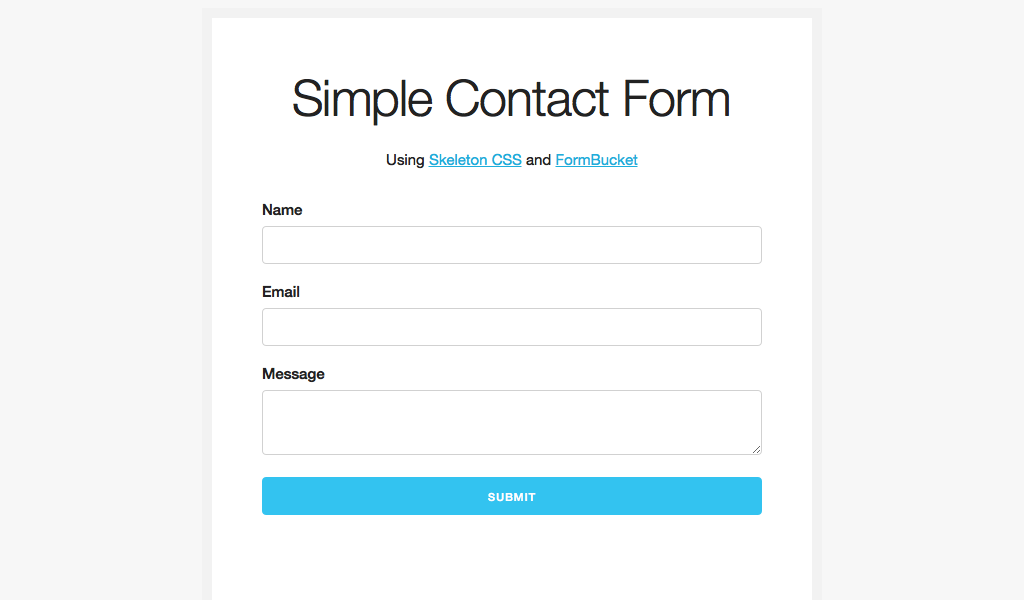button: (259, 474, 764, 519)
field: (259, 387, 763, 458), (259, 224, 763, 266), (260, 306, 764, 347)
